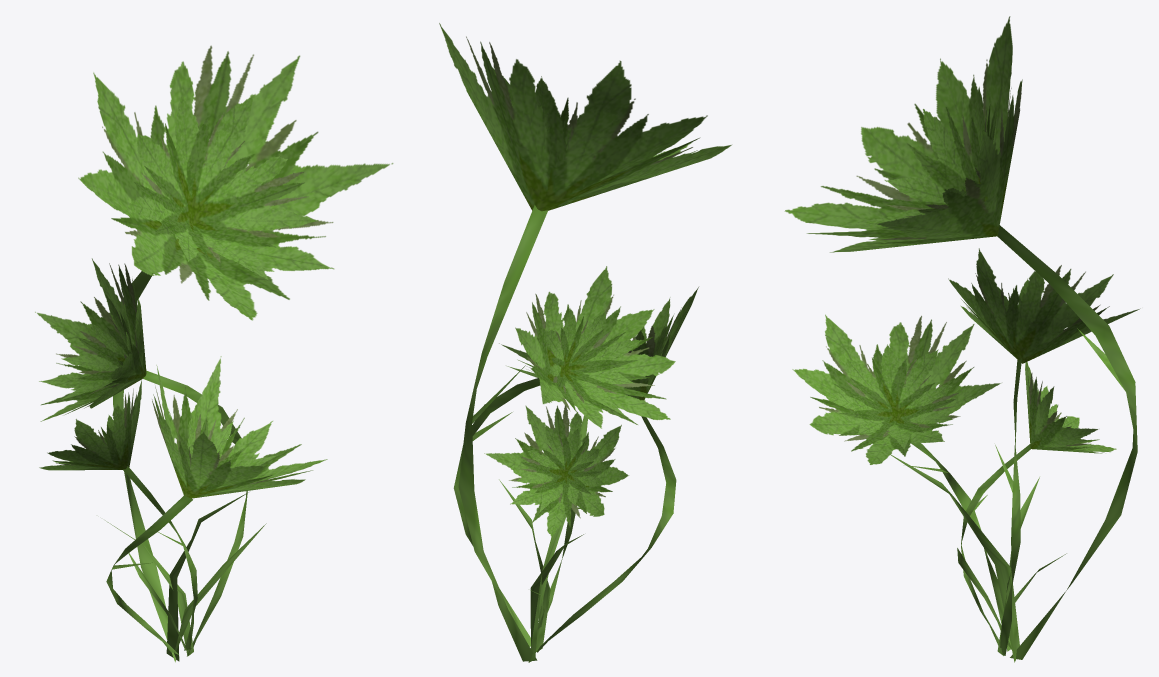
The model's file is Plant_1.glb.
3 renders of one model, left to right at view 1: azimuth 30°, elevation 25°; view 2: azimuth 150°, elevation 25°; view 3: azimuth 270°, elevation 25°, orthographic. The views are drawn at different scales.
Visible parts, largest first — view 1: Plant_1; view 2: Plant_1; view 3: Plant_1.
Part boxes in pixels (x1,y1,x2,y2): Plant_1: (35, 45, 393, 662); Plant_1: (439, 23, 731, 662); Plant_1: (784, 16, 1140, 662).
Size of the model in its own units: 0.7578 by 1.56 by 0.8296.
1 material, 1 textured.
